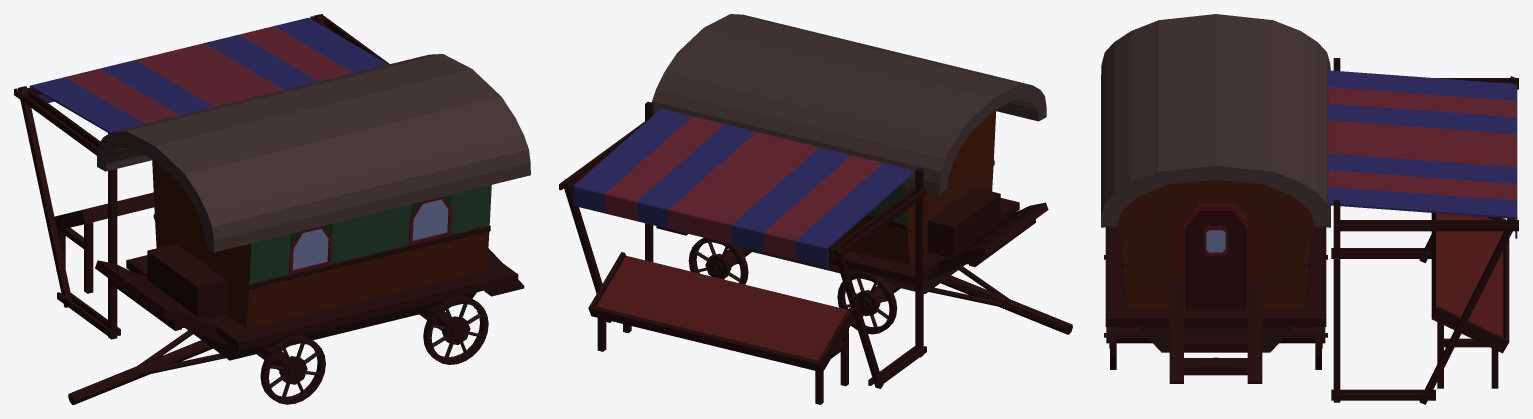
Rendered from WagonAndStall.fbx.
3 renders of one model, left to right at view 1: azimuth 30°, elevation 25°; view 2: azimuth 150°, elevation 25°; view 3: azimuth 270°, elevation 25°, orthographic. The views are drawn at different scales.
Parts seen in each view (by area): view 1: Wagon, Stall; view 2: Wagon, Stall; view 3: Wagon, Stall.
Boxes of the visible parts, left/top/right/bottom form: Wagon: left=68, top=54, right=530, bottom=404; Stall: left=14, top=14, right=389, bottom=339; Wagon: left=652, top=14, right=1072, bottom=334; Stall: left=559, top=101, right=926, bottom=404; Wagon: left=1101, top=14, right=1330, bottom=383; Stall: left=1328, top=58, right=1518, bottom=404.
Size of the model in its own units: 281 by 152 by 241.
